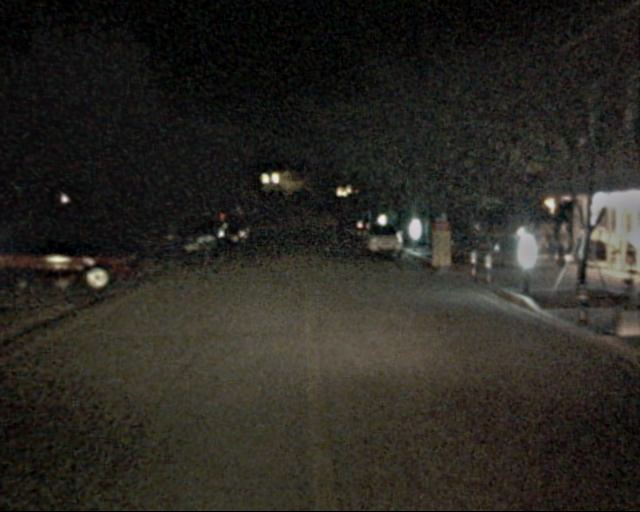person: (547, 217, 572, 277), (521, 220, 544, 277)
